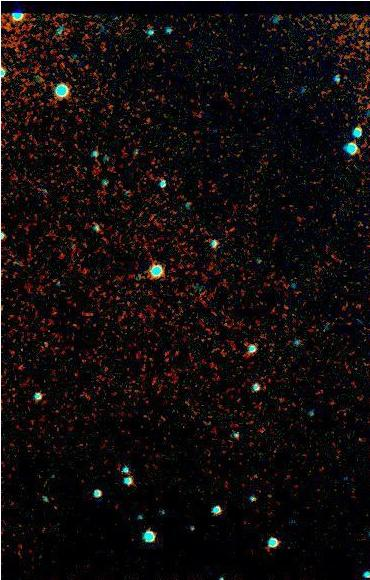star: (165, 173, 195, 203)
